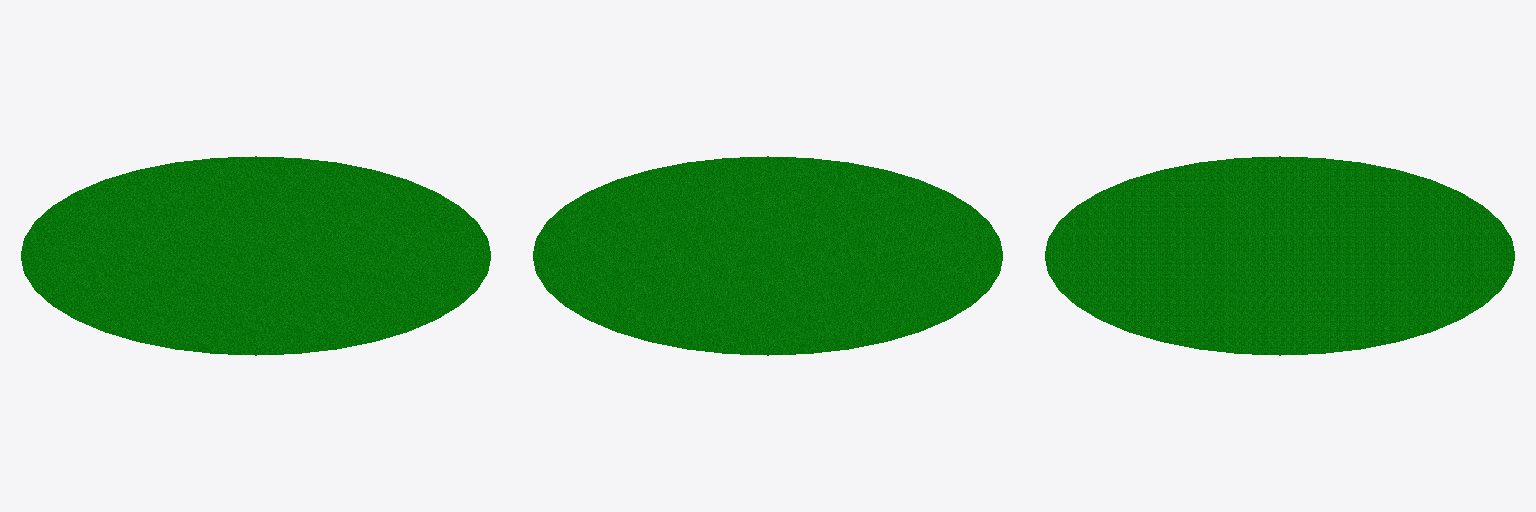
3 renders of one model, left to right at view 1: azimuth 30°, elevation 25°; view 2: azimuth 150°, elevation 25°; view 3: azimuth 270°, elevation 25°, orthographic.
Parts seen in each view (by area): view 1: grass; view 2: grass; view 3: grass.
Part boxes in pixels (x1,y1,x2,y2): grass: (21, 156, 490, 355); grass: (533, 156, 1002, 355); grass: (1045, 156, 1514, 355).
Size of the model in its own units: 10000 by 0 by 10000.
1 materials, 1 textured.